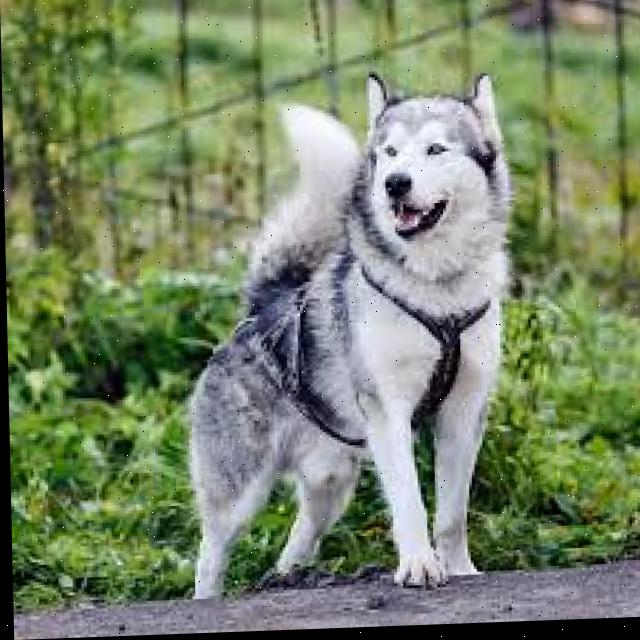ALASKAN_MALAMUTE: (157, 53, 559, 616)
